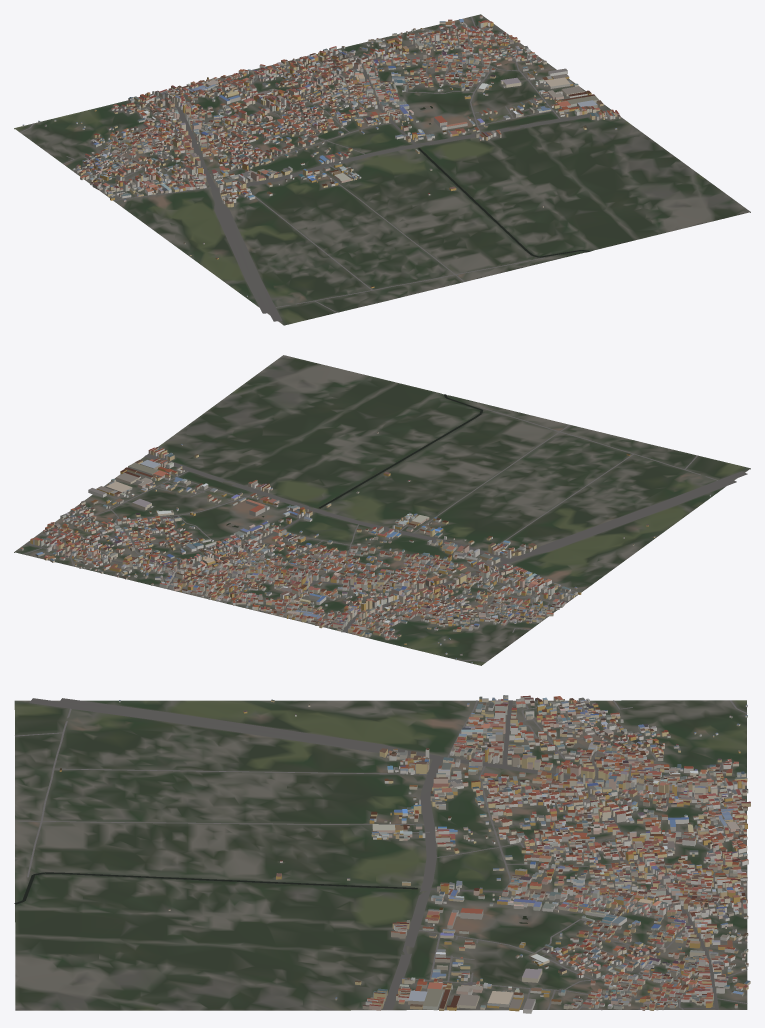
The picture shows the model from 3 angles, top to bottom: view 1: azimuth 30°, elevation 25°; view 2: azimuth 150°, elevation 25°; view 3: azimuth 270°, elevation 25°; orthographic projection. The views are drawn at different scales.
Visible parts, largest first — view 1: ground, buildings, roads; view 2: ground, buildings, roads, water; view 3: ground, buildings, roads, water.
Part boxes in pixels (<box>): ground: <box>14,14,750,325</box>; buildings: <box>22,15,620,296</box>; roads: <box>20,16,609,321</box>; ground: <box>14,355,750,665</box>; buildings: <box>20,432,710,663</box>; roads: <box>23,407,747,661</box>; water: <box>226,394,482,527</box>; ground: <box>14,700,747,1010</box>; buildings: <box>59,695,750,1013</box>; roads: <box>15,698,747,1010</box>; water: <box>14,872,527,923</box>.
Bounding box in the file's own units: 1428 × 30.89 × 1411.
